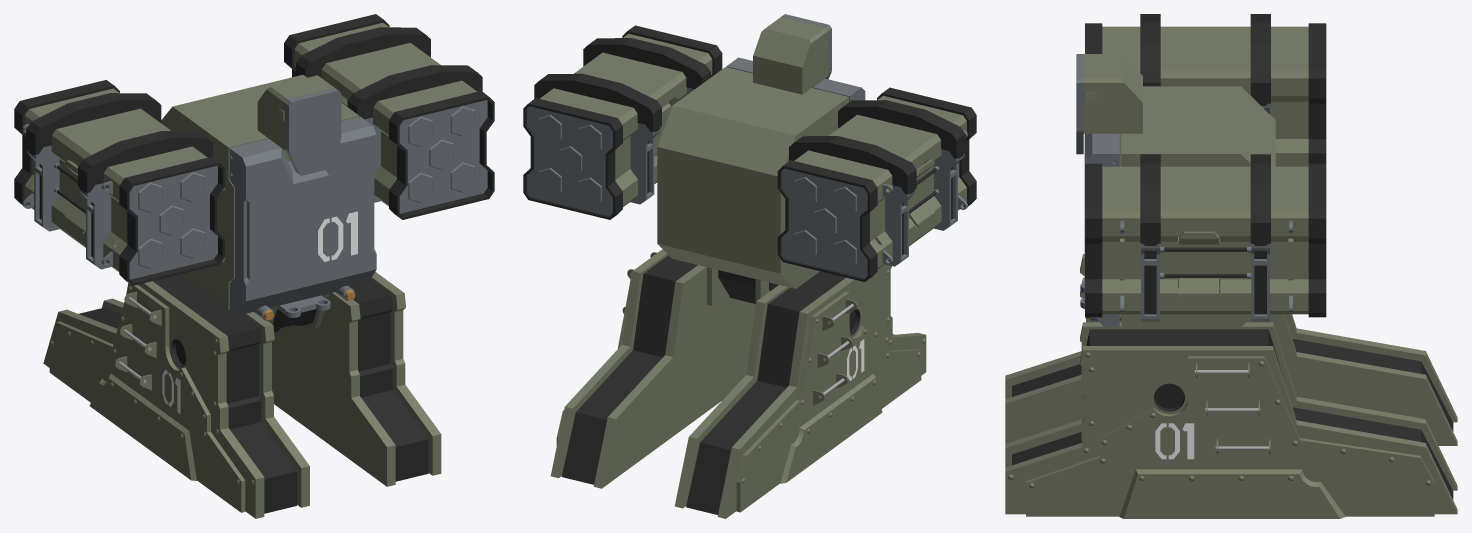
The model's file is Zenithe.fbx.
3 views of the same model, side by side, from view 1: azimuth 30°, elevation 25°; view 2: azimuth 150°, elevation 25°; view 3: azimuth 270°, elevation 25° (orthographic). The views are drawn at different scales.
Visible parts, largest first — view 1: polySurface33 (×2), pCube23, pCylinder24 (×2), polySurface20 (×2), polySurface26, pCylinder11 (×2), pCube25, polySurface32 (×2), polySurface50 (×2), polySurface23 (×2), pCylinder18, pCube10 (+12 smaller); view 2: pCube25, polySurface33 (×2), pCylinder24 (×2), polySurface20 (×2), polySurface26, pCylinder11 (×2), polySurface50 (×2), polySurface23 (×2), polySurface68 (×2), pCube11, pCylinder18, polySurface51 (×2) (+10 smaller); view 3: polySurface33 (×2), polySurface26, pCylinder11 (×2), pCylinder24 (×2), pCube25, pCylinder18, polySurface20 (×2), polySurface68 (×2), pCube11, polySurface50 (×2), polySurface23 (×2), polySurface32 (×2) (+7 smaller).
Boxes of the visible parts, x1,y1,x2,y2 form: polySurface33 (×2): (24,23,487,279); pCube23: (229,116,376,315); pCylinder24 (×2): (102,292,395,507); polySurface20 (×2): (79,274,428,513); polySurface26: (49,283,245,512); pCylinder11 (×2): (43,272,441,518); pCube25: (161,74,359,309); polySurface32 (×2): (119,91,494,285); polySurface50 (×2): (26,27,430,155); polySurface23 (×2): (77,65,482,192); pCylinder18: (89,373,196,480); pCube10: (284,88,341,175); pCube25: (657,67,848,288); polySurface33 (×2): (527,33,966,278); pCylinder24 (×2): (593,265,789,508); polySurface20 (×2): (561,255,894,514); polySurface26: (736,291,921,512); pCylinder11 (×2): (550,249,926,518); polySurface50 (×2): (534,73,916,194); polySurface23 (×2): (583,38,965,158); polySurface68 (×2): (523,98,877,281); pCube11: (753,16,828,94); pCylinder18: (780,374,882,483); polySurface51 (×2): (630,123,915,266); polySurface33 (×2): (1102,26,1308,314); polySurface26: (1026,356,1434,516); pCylinder11 (×2): (1005,254,1457,514); pCylinder24 (×2): (1005,277,1457,490); pCube25: (1119,86,1275,326); pCylinder18: (1119,469,1345,518); polySurface20 (×2): (1012,316,1453,499); polySurface68 (×2): (1308,23,1326,317); pCube11: (1083,54,1142,133); polySurface50 (×2): (1250,14,1270,245); polySurface23 (×2): (1140,14,1160,245); polySurface32 (×2): (1085,23,1102,317).
Size of the model in its own units: 68.01 by 61.69 by 63.27.
